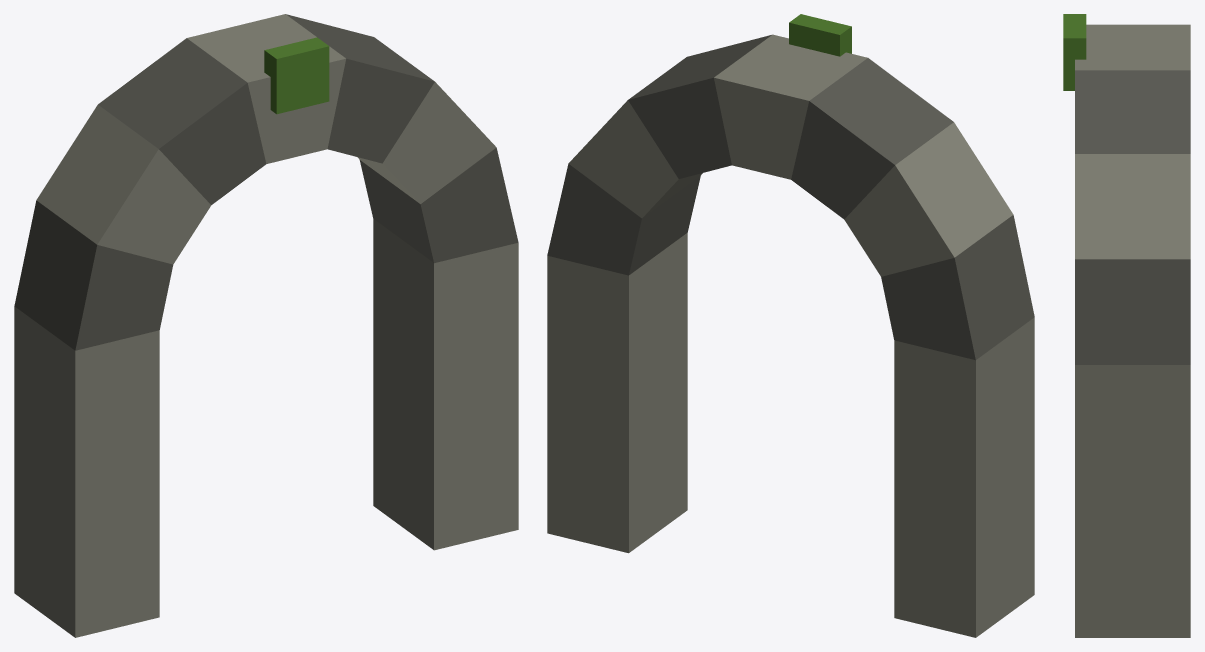
The model's file is arch.glb.
3 renders of one model, left to right at view 1: azimuth 30°, elevation 25°; view 2: azimuth 150°, elevation 25°; view 3: azimuth 270°, elevation 25°, orthographic. The views are drawn at different scales.
Visible parts, largest first — view 1: stone-col, stone_dark-col, moss; view 2: stone-col, stone_dark-col, moss; view 3: stone-col, stone_dark-col, moss.
Part boxes in pixels (left/top/right/bottom): stone-col: left=14, top=14, right=518, bottom=637; stone_dark-col: left=14, top=14, right=518, bottom=350; moss: left=264, top=37, right=329, bottom=114; stone-col: left=547, top=34, right=1034, bottom=637; stone_dark-col: left=547, top=35, right=1034, bottom=360; moss: left=789, top=14, right=851, bottom=56; stone-col: left=1075, top=24, right=1190, bottom=637; stone_dark-col: left=1075, top=70, right=1190, bottom=364; moss: left=1063, top=14, right=1086, bottom=90.
Bounding box in the file's own units: 4.2 × 4.85 × 1.1.
